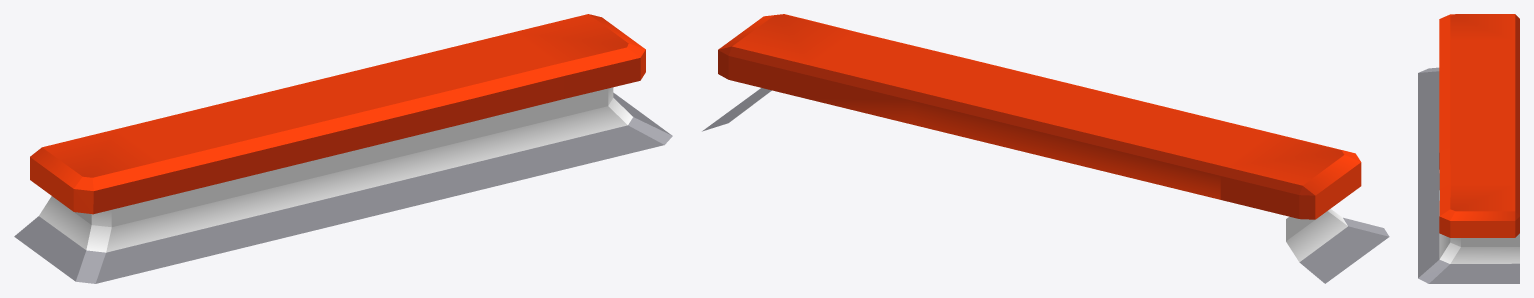
The picture shows the model from 3 angles, left to right: view 1: azimuth 30°, elevation 25°; view 2: azimuth 150°, elevation 25°; view 3: azimuth 270°, elevation 25°; orthographic projection. The views are drawn at different scales.
Size of the model in its own units: 5.94 by 0.8145 by 1.19.
Materials: 3 (3 with a texture image).
